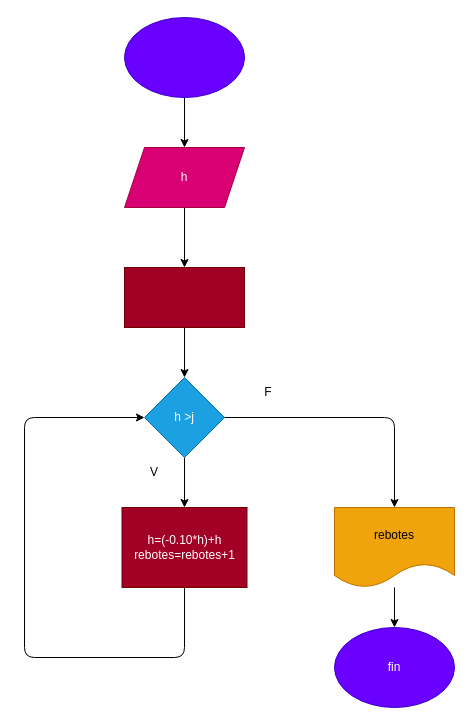
This 472x725 diagram has some shape labels left out. Each missing label, with the box of its shape:
inicio: (124, 16, 244, 98)
rebotes=0 j=h/5: (124, 266, 244, 328)
